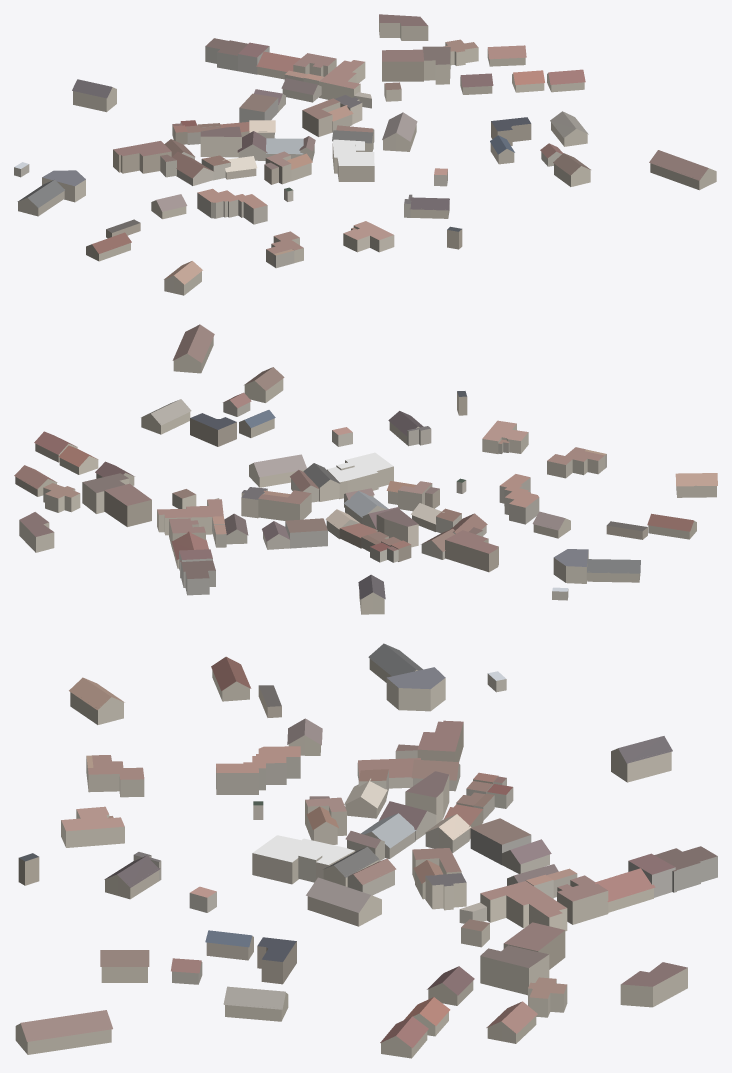
3 views of the same model, one above another, from view 1: azimuth 30°, elevation 25°; view 2: azimuth 150°, elevation 25°; view 3: azimuth 270°, elevation 25° (orthographic). The views are drawn at different scales.
Visible parts, largest first — view 1: tuile; view 2: tuile; view 3: tuile.
Boxes of the visible parts, x1,y1,x2,y2 form: tuile: [14, 14, 716, 295]; tuile: [14, 324, 717, 614]; tuile: [15, 643, 717, 1058].
Bounding box in the file's own units: 254 × 14.76 × 198.
